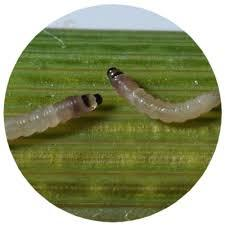insect: (106, 60, 222, 128), (0, 87, 106, 142)
